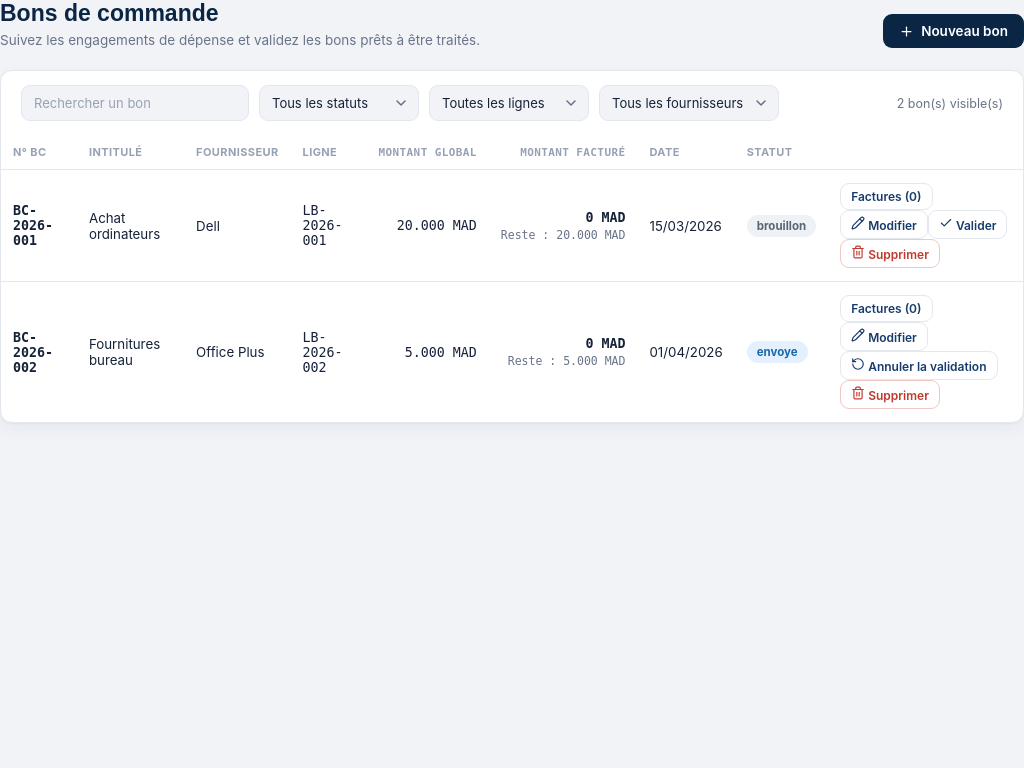
BonsCommande › affiche les erreurs de validation (422) lors de la création
Expected: the text "BC-2026-001" is shown, 13,203 -> 53,248
Click the button "Nouveau bon": (954, 31) 883,14 -> 1023,48
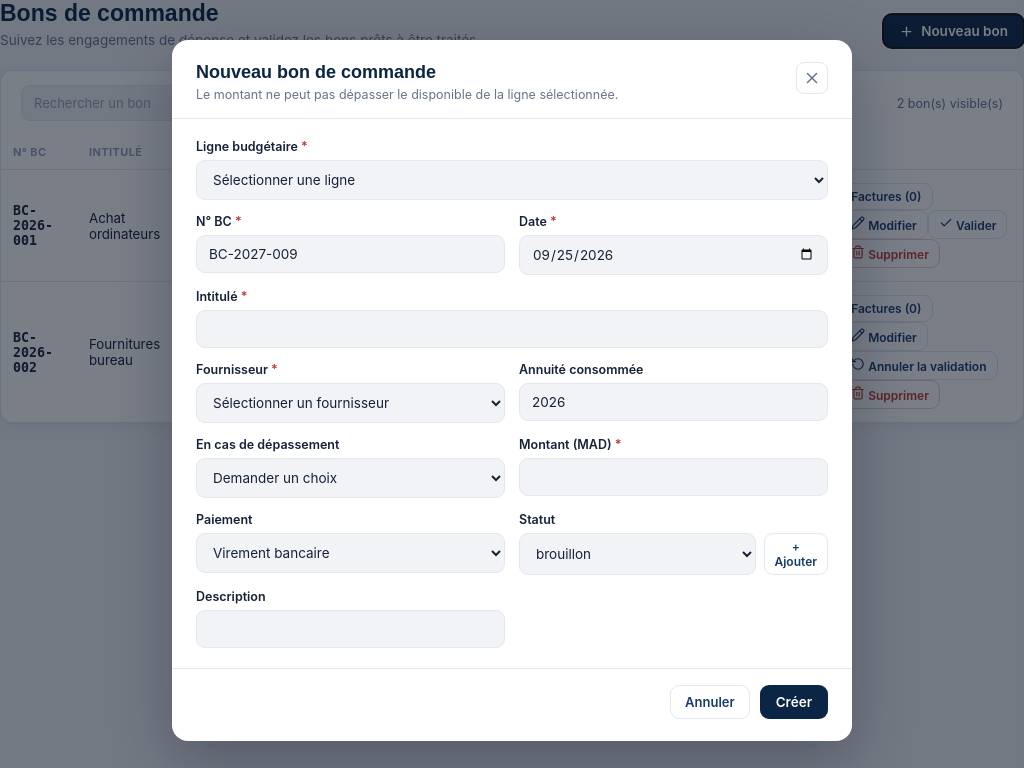
Select "LB-2026-001 — Fournitures" in the dropdown below "Ligne budgétaire": (512, 180) 196,160 -> 828,200
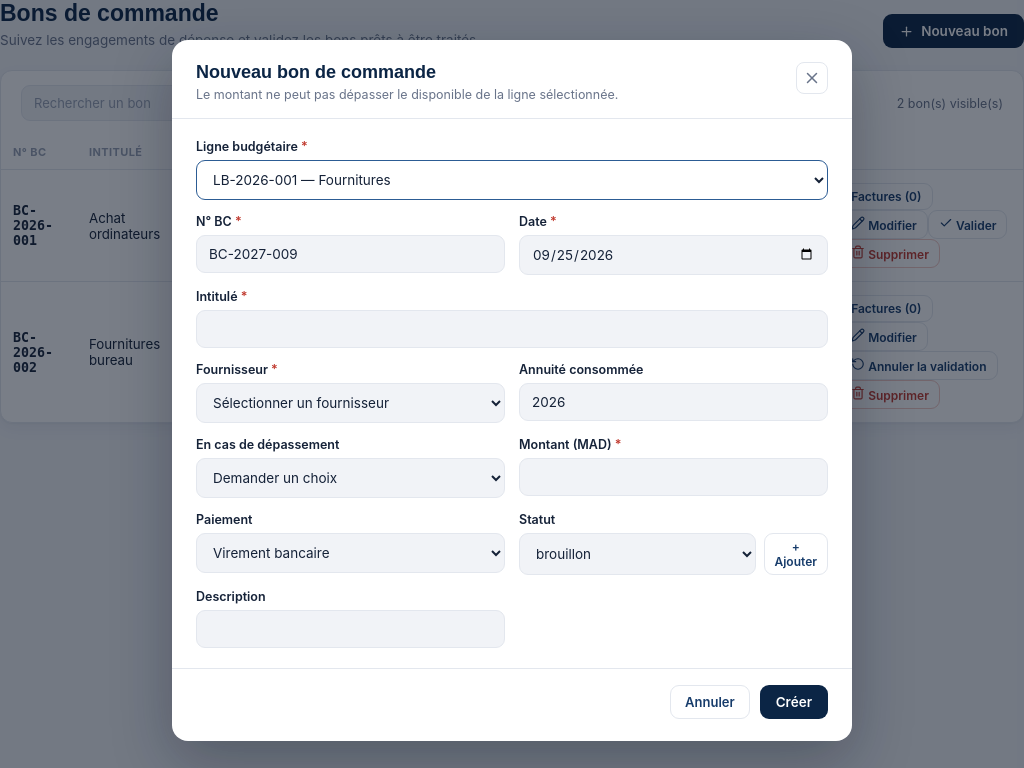
In the 2nd field: (512, 329) 196,310 -> 828,348, type "Achat"
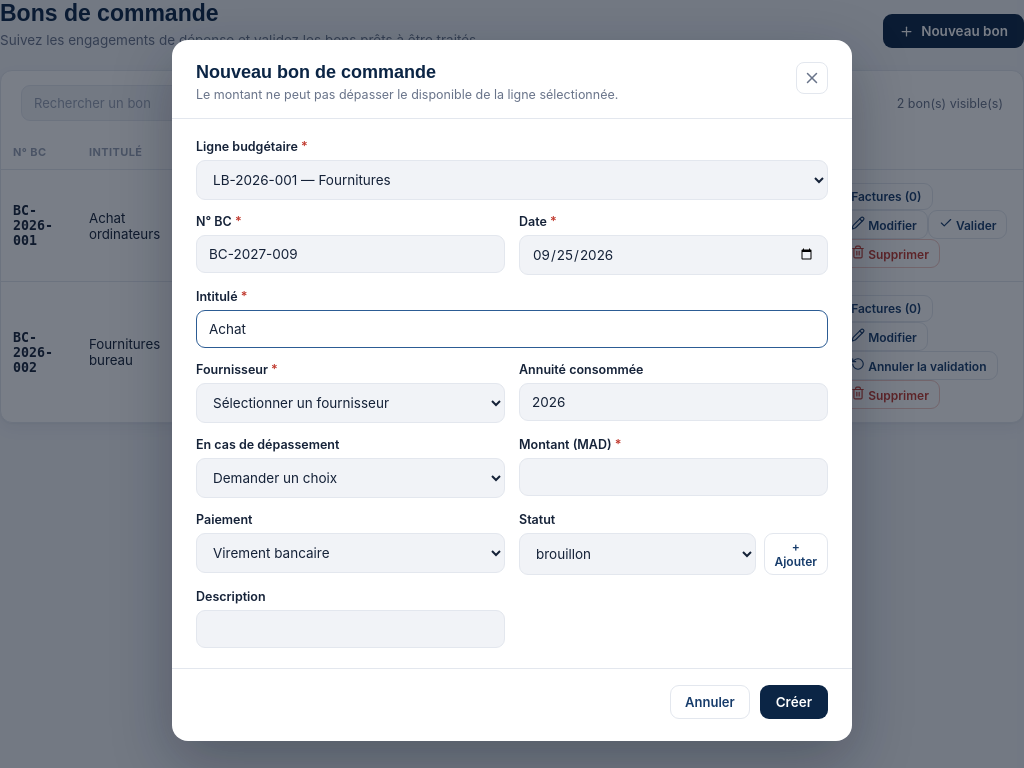
Select "Dell" in the 2nd dropdown: (350, 403) 196,383 -> 505,423
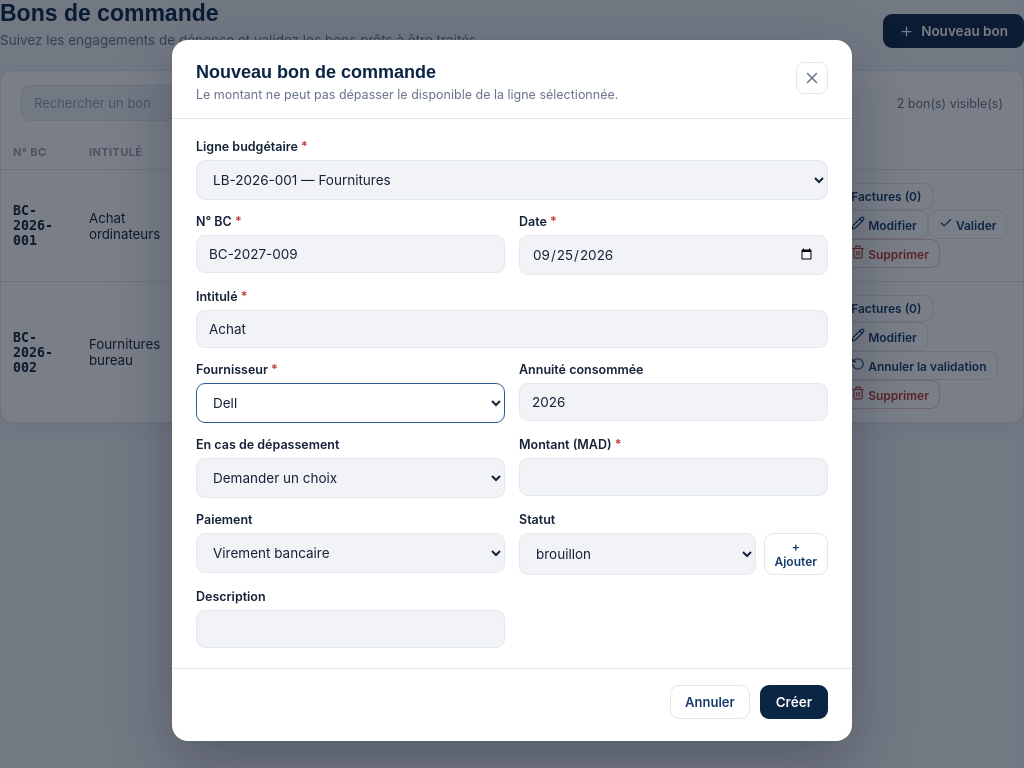
In the number field: (674, 477) 519,458 -> 828,496, type "999999"
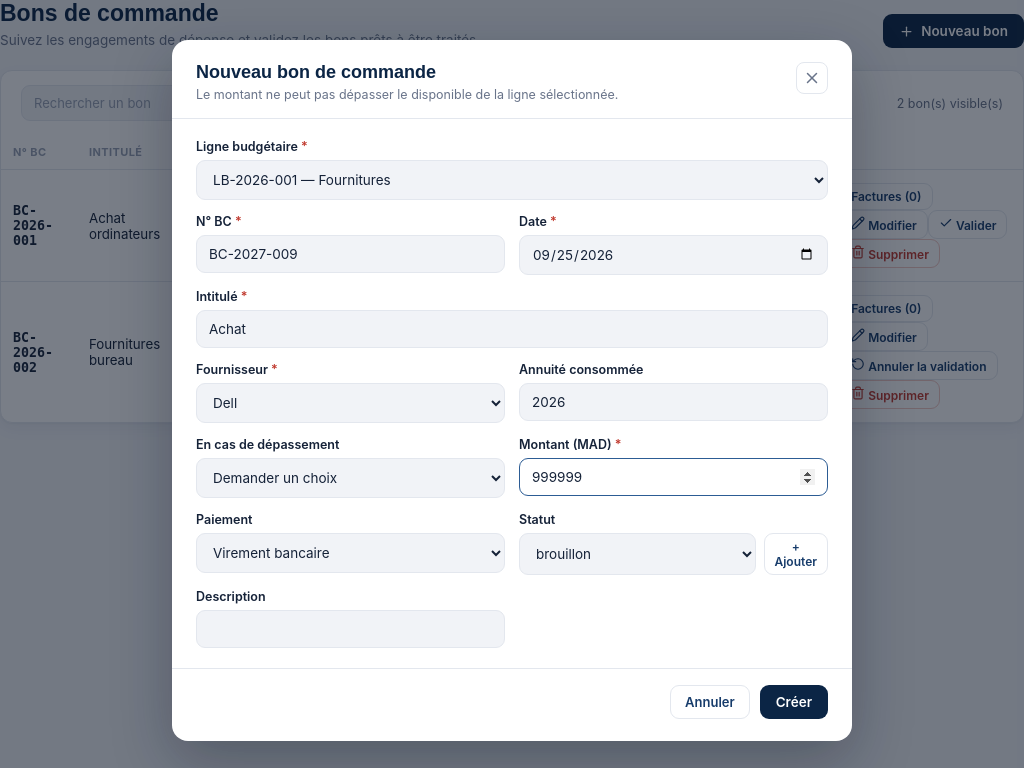
Click the button "Créer": (794, 702) 760,685 -> 828,719
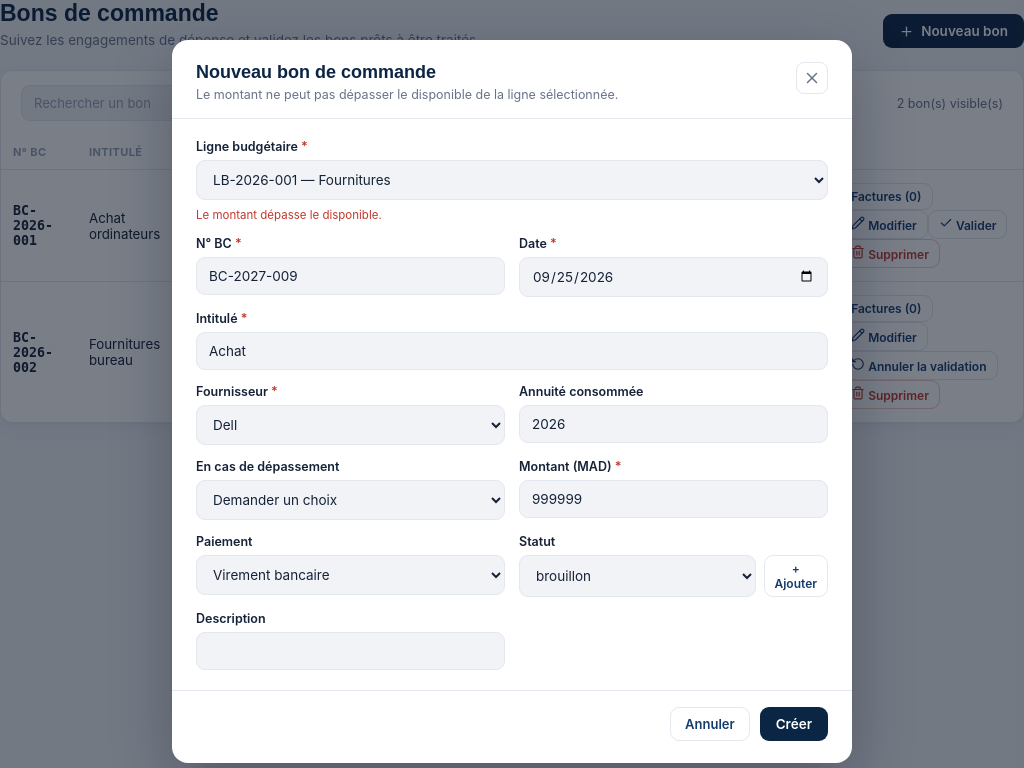
Now the dialog is shown
Now the text "Le montant dépasse le disponible." is shown, box 196,208 -> 382,222
